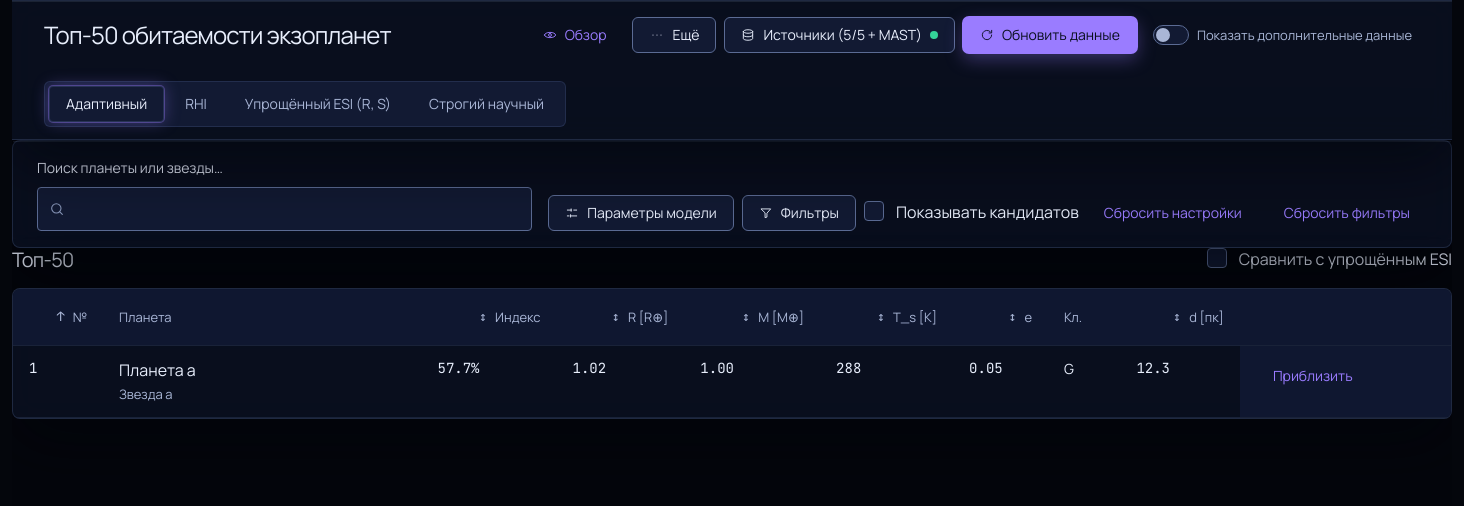
it: сохранение состояния › сбой sessionStorage не ломает приложение: состояние держится в памяти
Click the switch labelled "Показать дополнительные данные" at (1282, 35), box [1153,25,1412,45]
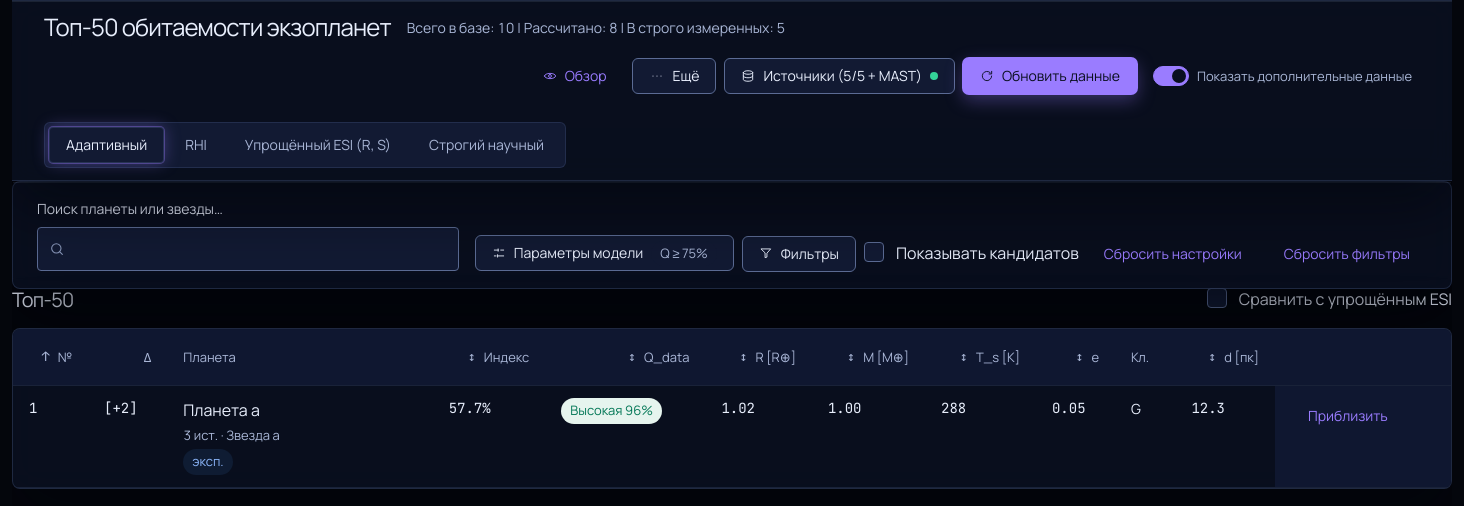
Result: the text "Всего в базе: 10 | Рассчитано: 8 | В строго измеренных: 5" is shown at [407,16,785,38]
